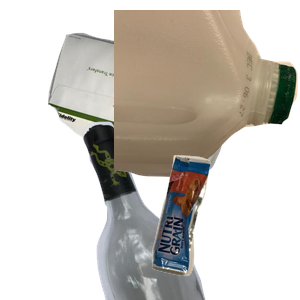glass: (81, 120, 300, 300)
paper: (45, 30, 281, 195)
plastic: (114, 10, 300, 179)
trash: (149, 152, 300, 300)
